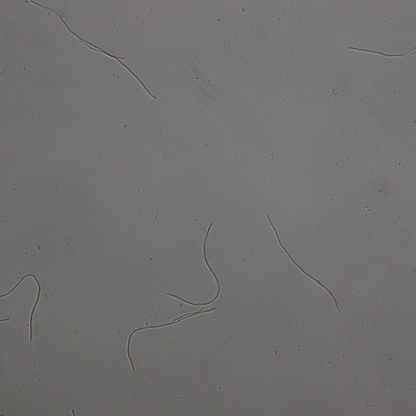Sensitive: (268, 216, 339, 311), (33, 1, 128, 62), (126, 308, 214, 370), (167, 223, 220, 306), (82, 43, 157, 99), (1, 274, 41, 342), (348, 42, 416, 57)
